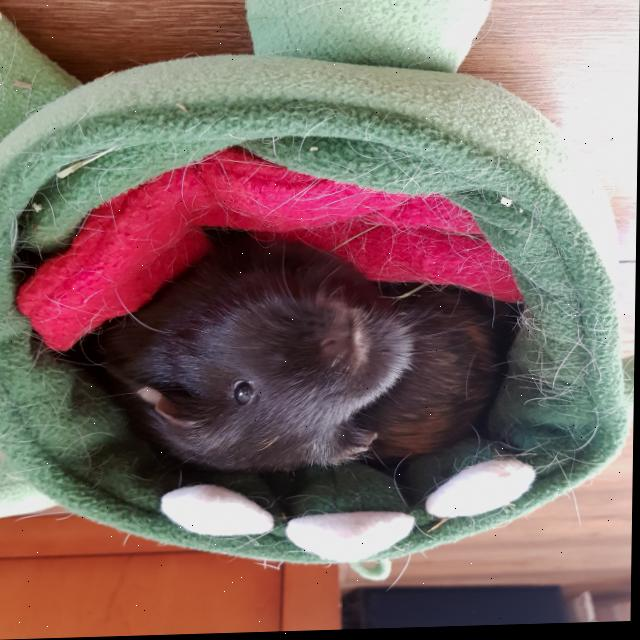guinea pig: (81, 217, 522, 481)
